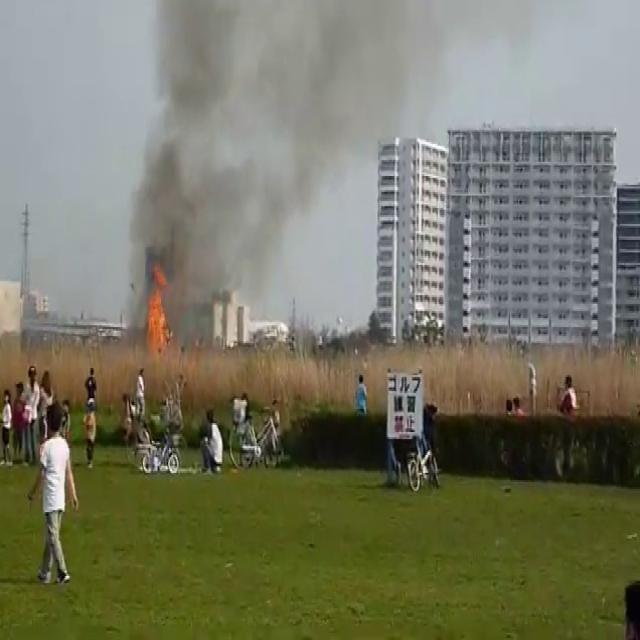Fire: (140, 264, 173, 358)
Smoke: (121, 0, 462, 341)
